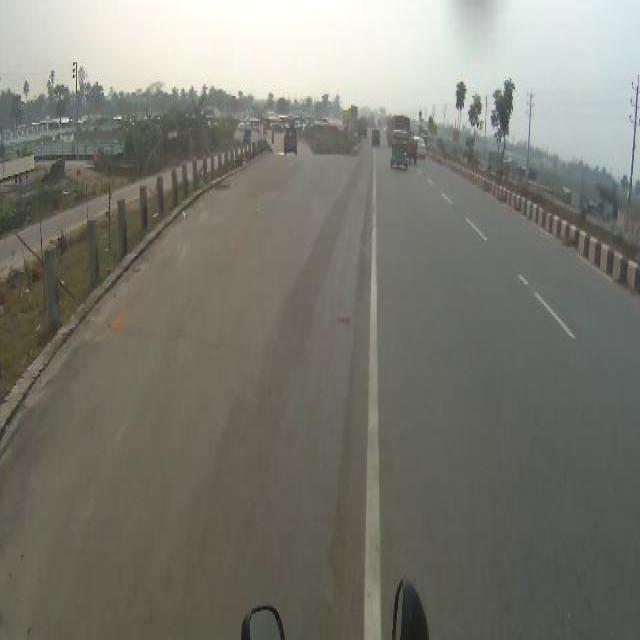bike: (272, 133, 275, 143)
vehicle: (392, 128, 409, 169), (284, 127, 298, 156), (359, 116, 368, 138), (419, 138, 426, 159), (372, 130, 381, 146), (239, 121, 252, 130)
